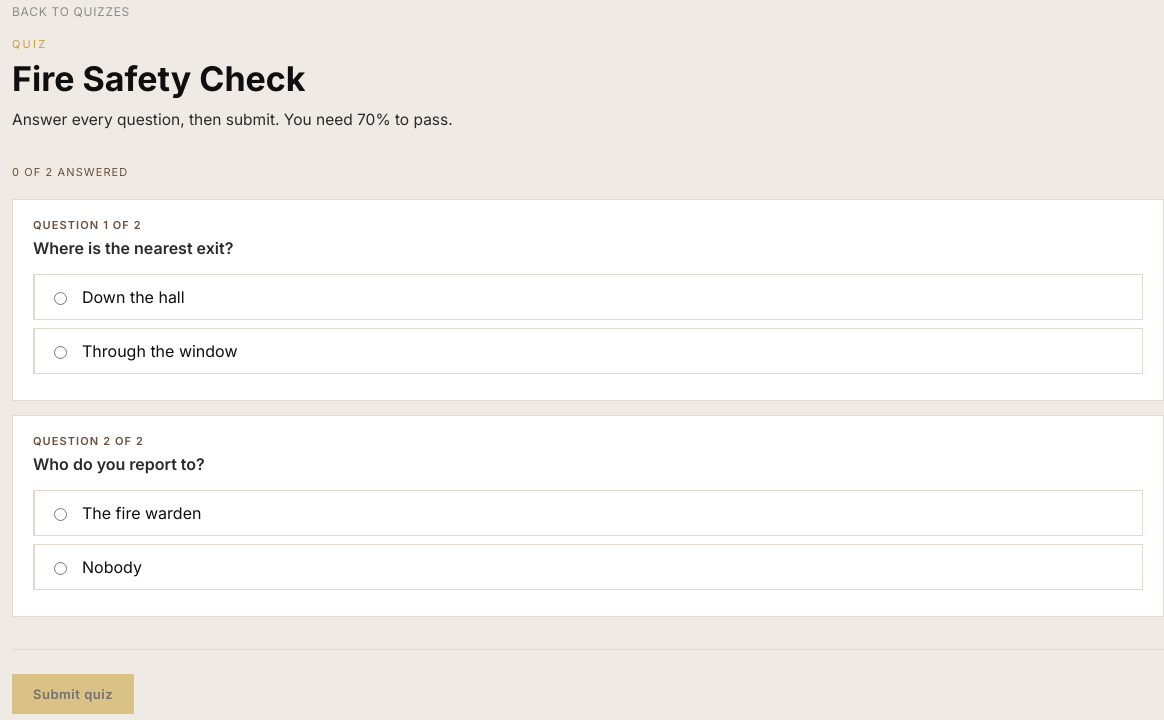
Test: after submitting › shows the reason a submission was rejected
Click the radio button labelled "Down the hall". click: (60, 298)
box: x1=54 y1=292 x2=67 y2=305
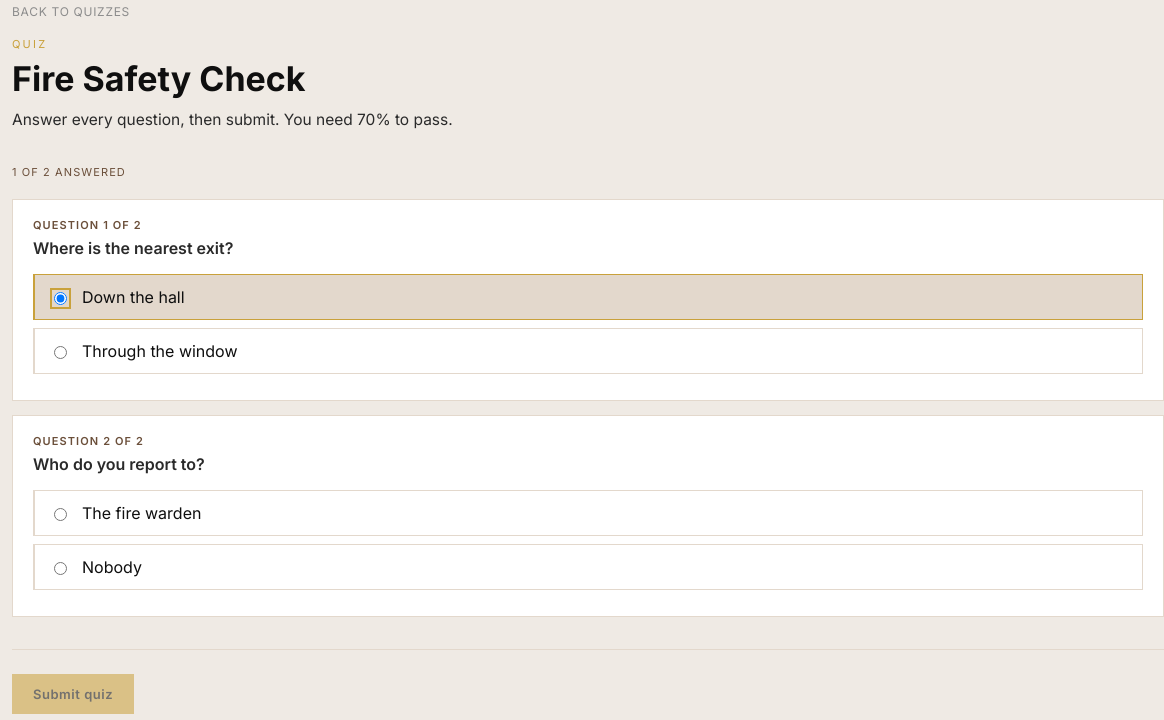
Click the radio button labelled "The fire warden". click: (60, 514)
box: x1=54 y1=508 x2=67 y2=521
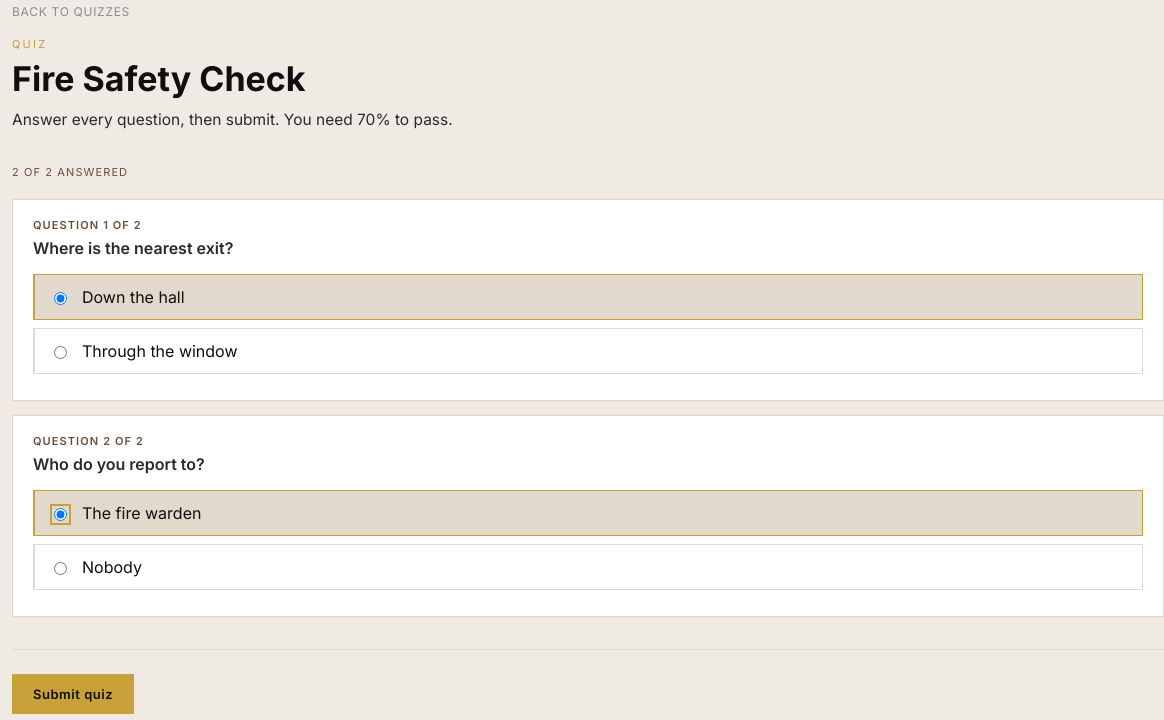
Click the button "Submit quiz". click: (73, 694)
box: x1=12 y1=674 x2=134 y2=714
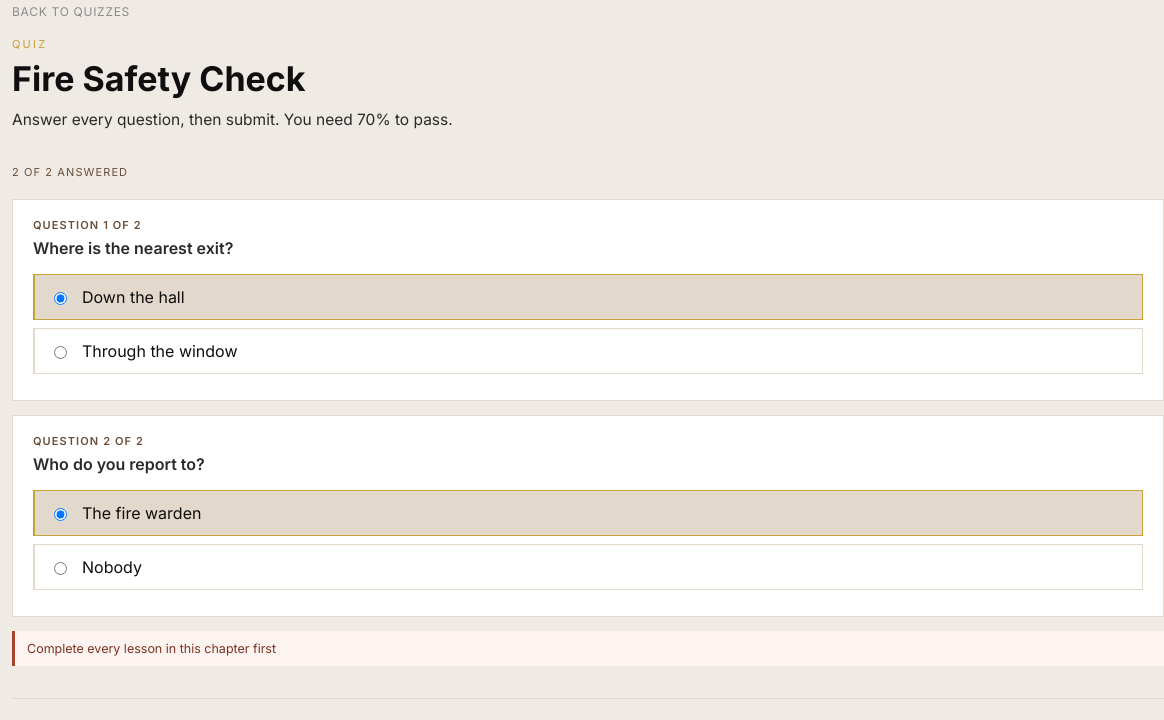
expect the text "Complete every lesson in this chapter first" is shown: met, box x1=12 y1=631 x2=1163 y2=666
